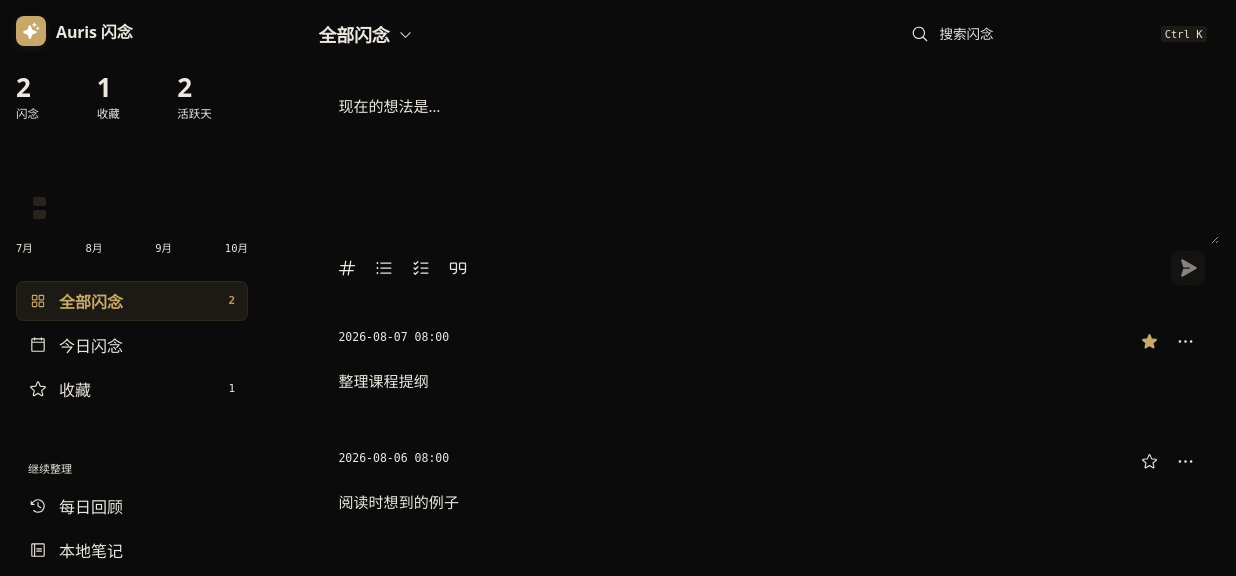
Test: FlashPageClient › inserts markdown helpers at the current composer cursor
Type "想法" into the text box named "记录一条闪念". click: (768, 159)
box: [316,73,1219,244]
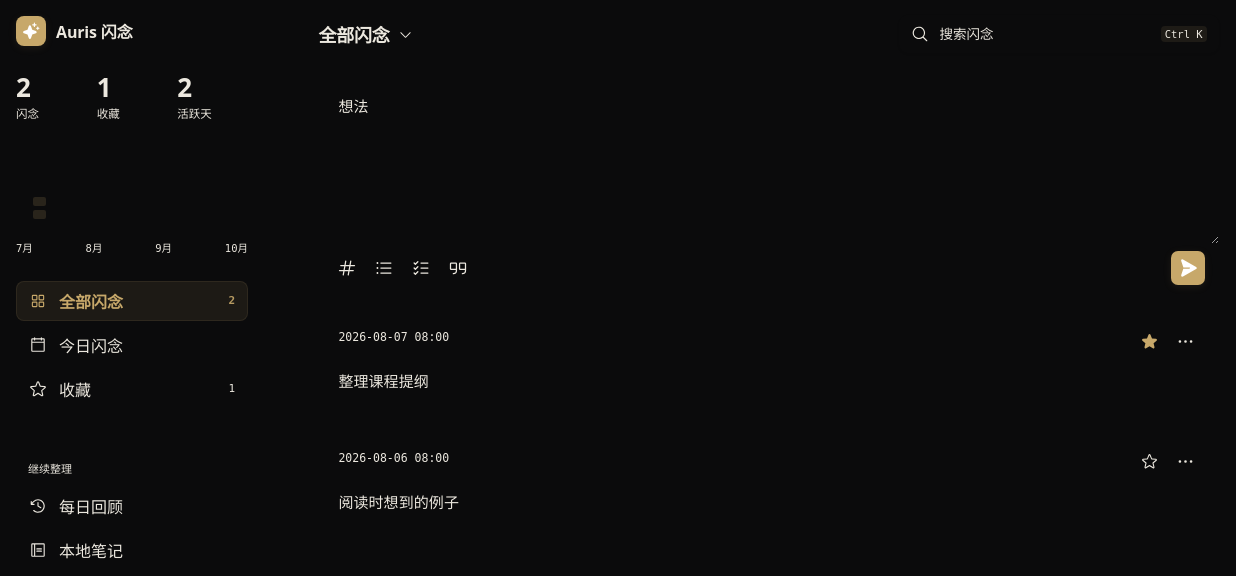
Click the button named "插入任务". click: (421, 268)
box: [404,251,438,285]
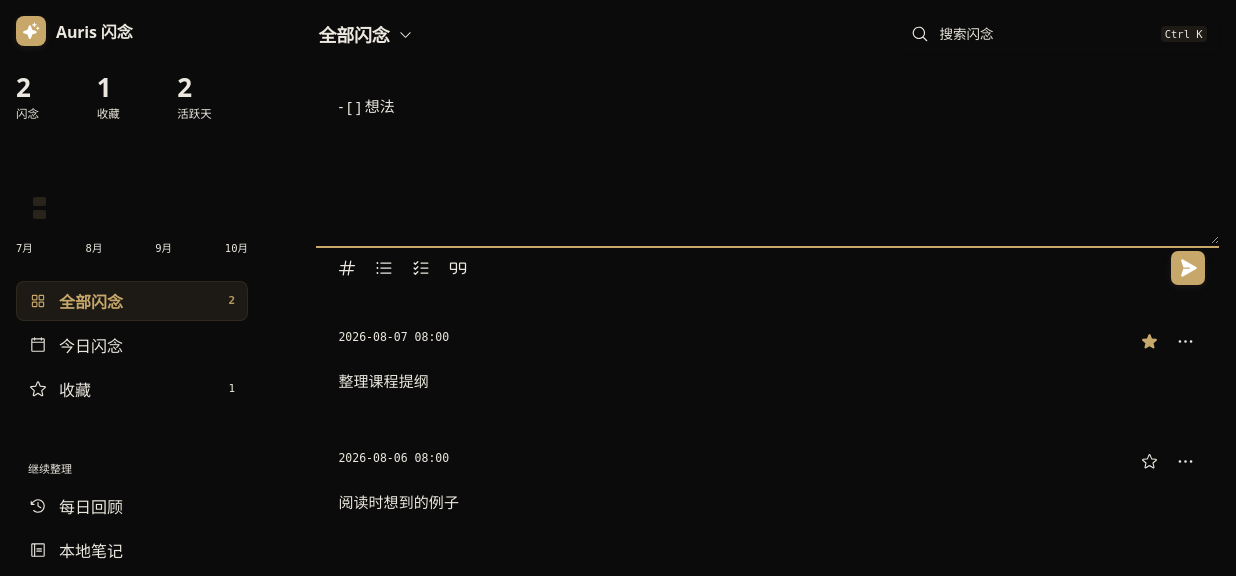
expect the text box named "记录一条闪念" holds "- [ ] 想法": met, box [316,73,1219,244]
